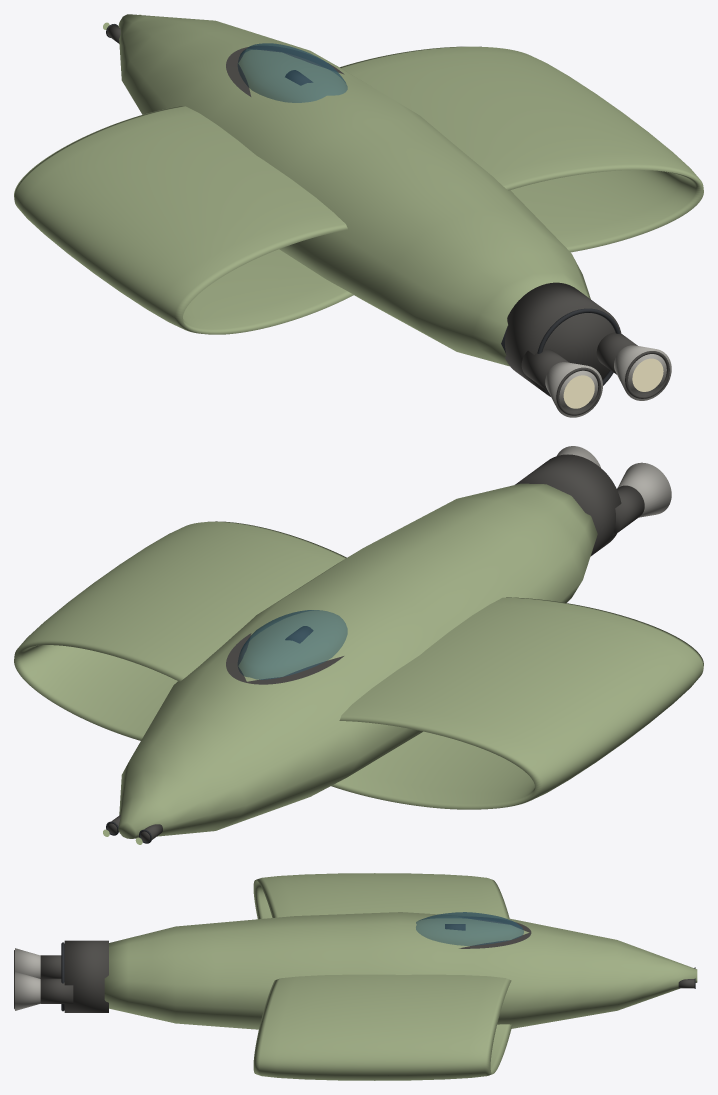
Rendered from Ship_TwoHoop_961380.glb.
The picture shows the model from 3 angles, top to bottom: view 1: azimuth 30°, elevation 25°; view 2: azimuth 150°, elevation 25°; view 3: azimuth 270°, elevation 25°; orthographic projection. The views are drawn at different scales.
Parts seen in each view (by area): view 1: Fuselage_MainCenteredHull_CenterOfMassAtOrigin, Hoop_Left_StructuralRing_YAxisHole_CenterTangent_AftSwept, Hoop_Right_StructuralRing_YAxisHole_CenterTangent_AftSwept, EngineBlock_AftHullIntegratedMountPlate, CanopyGlass_LowForwardPodDome, EngineEmitter, EngineBell_Left_AftHullBurnishedNozzle, EngineBell_Right_AftHullBurnishedNozzle, CanopyFrame_LowInsetOvalRim, EngineThroat_Left_AftHullDarkSocket, EngineThroat_Right_AftHullDarkSocket, EngineBlock_AftHullDarkTrimRing; view 2: Fuselage_MainCenteredHull_CenterOfMassAtOrigin, Hoop_Left_StructuralRing_YAxisHole_CenterTangent_AftSwept, Hoop_Right_StructuralRing_YAxisHole_CenterTangent_AftSwept, CanopyGlass_LowForwardPodDome, EngineBlock_AftHullIntegratedMountPlate, EngineBell_Left_AftHullBurnishedNozzle, CanopyFrame_LowInsetOvalRim, EngineThroat_Left_AftHullDarkSocket; view 3: Fuselage_MainCenteredHull_CenterOfMassAtOrigin, Hoop_Right_StructuralRing_YAxisHole_CenterTangent_AftSwept, Hoop_Left_StructuralRing_YAxisHole_CenterTangent_AftSwept, EngineBlock_AftHullIntegratedMountPlate, CanopyGlass_LowForwardPodDome, EngineBell_Right_AftHullBurnishedNozzle, EngineThroat_Right_AftHullDarkSocket, EngineBell_Left_AftHullBurnishedNozzle, CanopyFrame_LowInsetOvalRim, EngineThroat_Left_AftHullDarkSocket.
Boxes of the visible parts, <box> form: Fuselage_MainCenteredHull_CenterOfMassAtOrigin: <box>118,14,590,366</box>; Hoop_Left_StructuralRing_YAxisHole_CenterTangent_AftSwept: <box>14,106,353,334</box>; Hoop_Right_StructuralRing_YAxisHole_CenterTangent_AftSwept: <box>340,46,703,252</box>; EngineBlock_AftHullIntegratedMountPlate: <box>505,282,621,396</box>; CanopyGlass_LowForwardPodDome: <box>237,43,347,102</box>; EngineEmitter: <box>563,358,663,408</box>; EngineBell_Left_AftHullBurnishedNozzle: <box>545,362,602,417</box>; EngineBell_Right_AftHullBurnishedNozzle: <box>614,345,671,400</box>; CanopyFrame_LowInsetOvalRim: <box>226,46,344,96</box>; EngineThroat_Left_AftHullDarkSocket: <box>521,349,568,390</box>; EngineThroat_Right_AftHullDarkSocket: <box>596,332,637,374</box>; EngineBlock_AftHullDarkTrimRing: <box>537,308,620,393</box>; Fuselage_MainCenteredHull_CenterOfMassAtOrigin: <box>118,483,597,838</box>; Hoop_Left_StructuralRing_YAxisHole_CenterTangent_AftSwept: <box>331,597,703,809</box>; Hoop_Right_StructuralRing_YAxisHole_CenterTangent_AftSwept: <box>14,521,346,740</box>; CanopyGlass_LowForwardPodDome: <box>237,610,347,679</box>; EngineBlock_AftHullIntegratedMountPlate: <box>515,454,621,556</box>; EngineBell_Left_AftHullBurnishedNozzle: <box>617,462,671,517</box>; CanopyFrame_LowInsetOvalRim: <box>226,633,343,684</box>; EngineThroat_Left_AftHullDarkSocket: <box>612,485,644,535</box>; Fuselage_MainCenteredHull_CenterOfMassAtOrigin: <box>104,912,697,1029</box>; Hoop_Right_StructuralRing_YAxisHole_CenterTangent_AftSwept: <box>253,974,512,1080</box>; Hoop_Left_StructuralRing_YAxisHole_CenterTangent_AftSwept: <box>253,873,509,919</box>; EngineBlock_AftHullIntegratedMountPlate: <box>64,940,108,1012</box>; CanopyGlass_LowForwardPodDome: <box>416,912,523,945</box>; EngineBell_Right_AftHullBurnishedNozzle: <box>15,971,40,1010</box>; EngineThroat_Right_AftHullDarkSocket: <box>40,978,73,1003</box>; EngineBell_Left_AftHullBurnishedNozzle: <box>15,948,40,978</box>; CanopyFrame_LowInsetOvalRim: <box>459,917,531,948</box>; EngineThroat_Left_AftHullDarkSocket: <box>40,955,61,978</box>.
Bounding box in the file's own units: 4.01 × 1.06 × 6.26.
